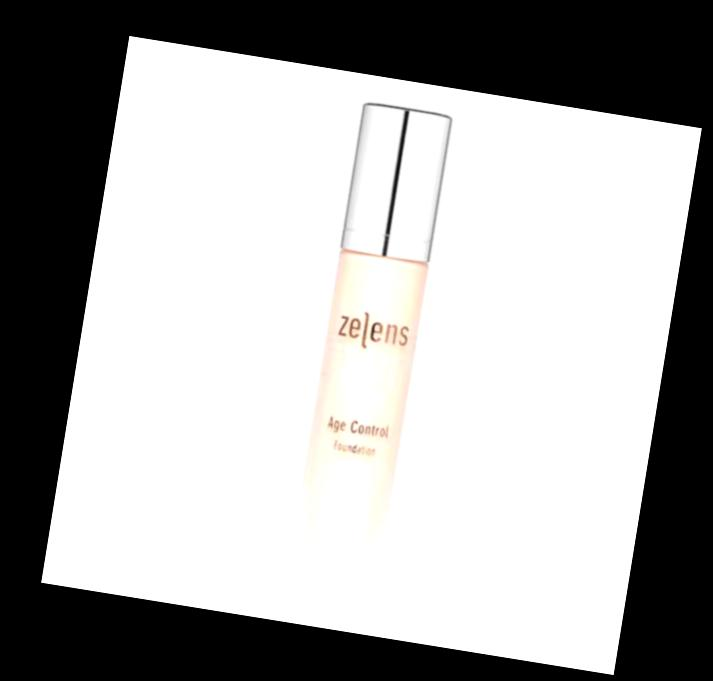cosmetic: (281, 99, 456, 617)
